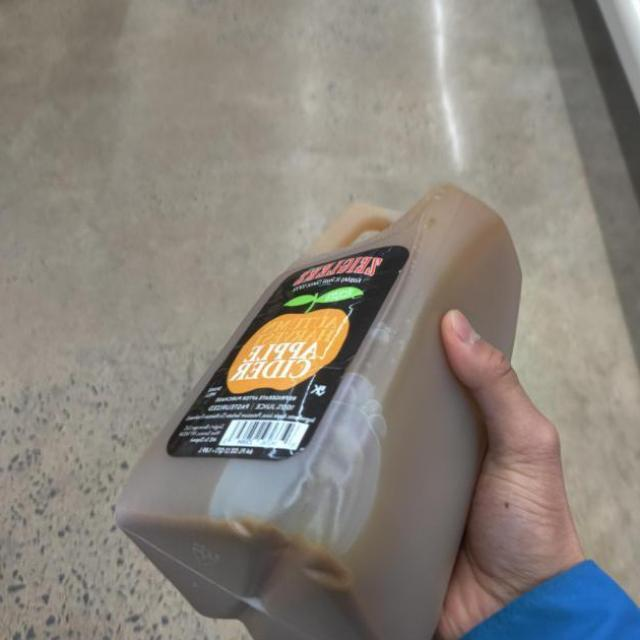Juice: (114, 189, 522, 640)
